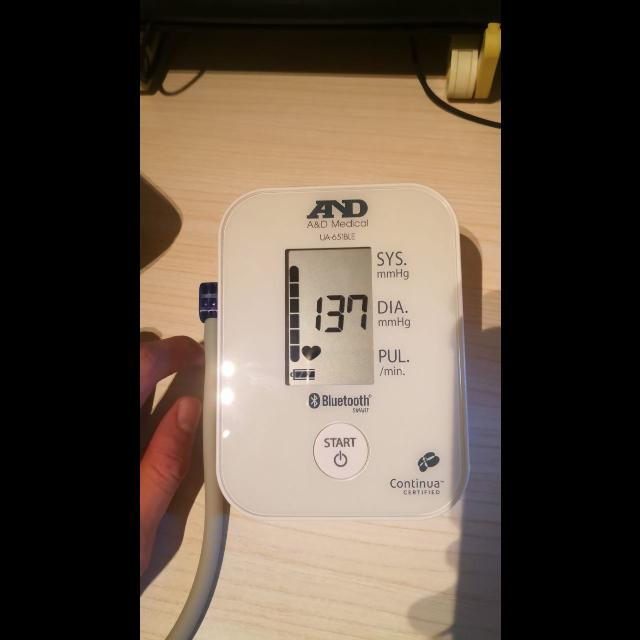Blood-Pressure-Monitor: (215, 183, 470, 522)
